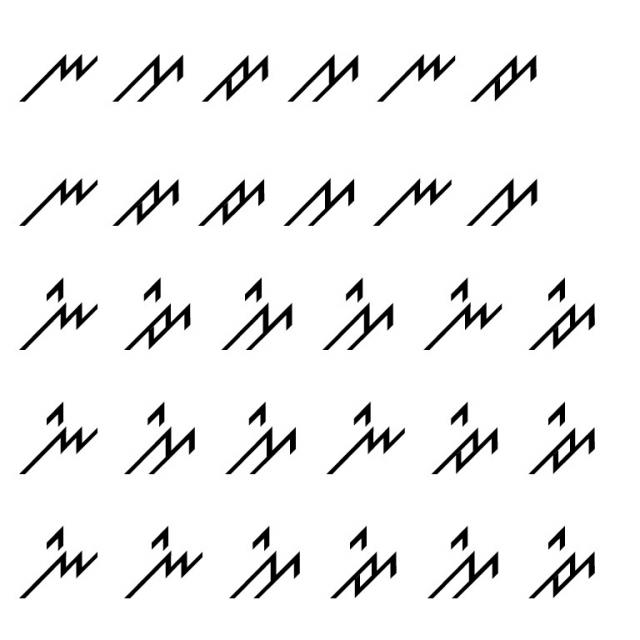ja: (104, 156, 180, 240), (196, 39, 276, 109), (188, 166, 266, 230), (469, 46, 541, 114)
ji: (516, 272, 597, 360), (118, 275, 196, 357), (526, 397, 602, 480), (430, 397, 501, 484), (328, 521, 400, 604), (529, 522, 603, 602)
nya: (16, 166, 102, 232), (18, 39, 101, 106), (373, 46, 459, 106), (371, 172, 454, 234)
nyi: (8, 516, 102, 602), (15, 393, 102, 480), (322, 394, 406, 482), (418, 272, 505, 354), (16, 274, 104, 353), (126, 525, 208, 603)
sa: (278, 171, 362, 231), (108, 44, 188, 106), (468, 168, 542, 234), (288, 49, 362, 106)
si: (216, 397, 303, 478), (318, 278, 402, 358), (229, 524, 309, 605), (123, 394, 200, 476), (217, 276, 295, 356), (427, 522, 502, 602)
